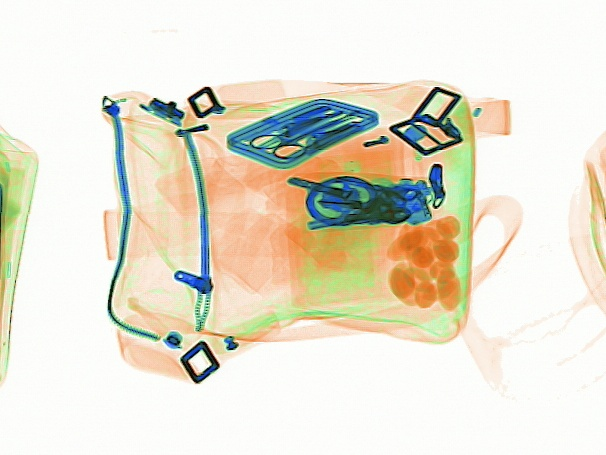scissors: (248, 111, 353, 160)
